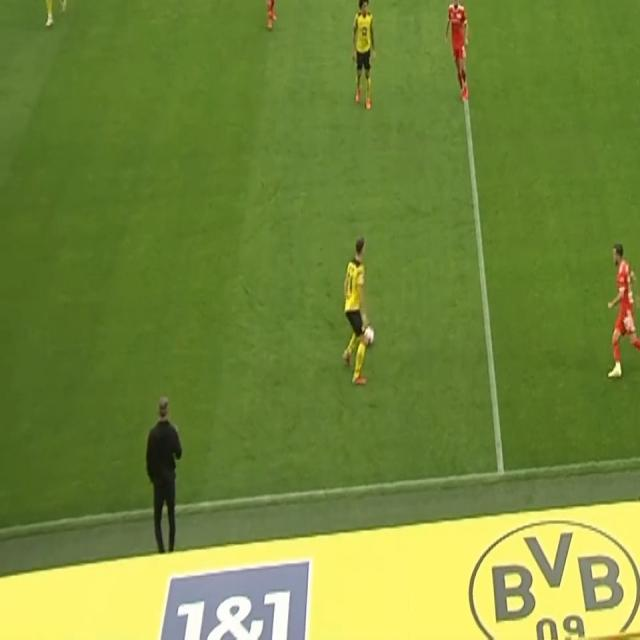ball: (362, 322, 376, 349)
